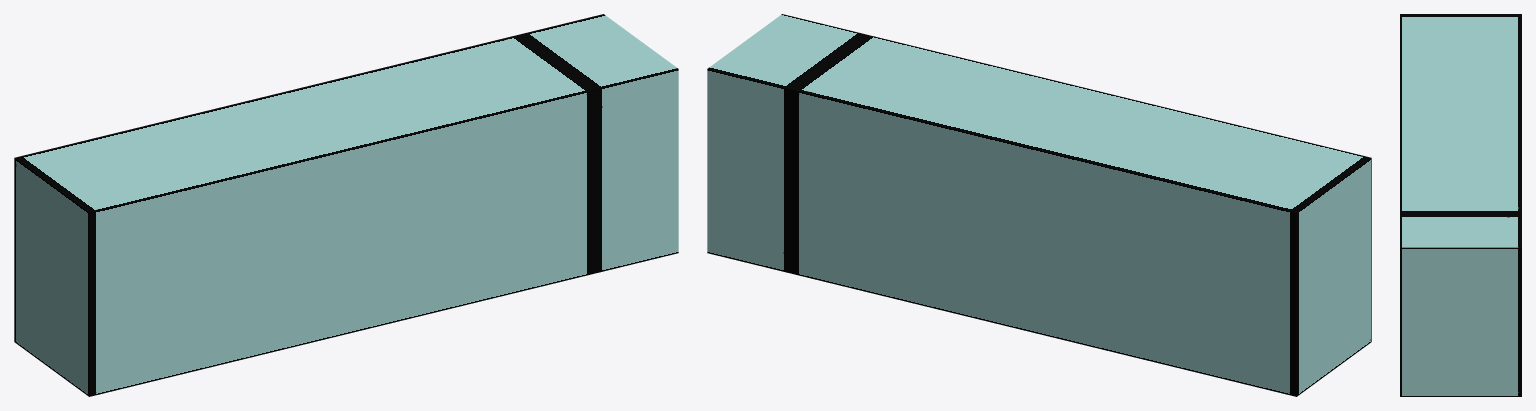
File: node_parallel.obj
3 renders of one model, left to right at view 1: azimuth 30°, elevation 25°; view 2: azimuth 150°, elevation 25°; view 3: azimuth 270°, elevation 25°, orthographic. The views are drawn at different scales.
Visible parts, largest first — view 1: Node_parallel; view 2: Node_parallel; view 3: Node_parallel.
Boxes of the visible parts, <box> form: Node_parallel: <box>14,14,678,396</box>; Node_parallel: <box>707,14,1371,396</box>; Node_parallel: <box>1400,14,1521,396</box>.
Size of the model in its own units: 1.17 by 0.3489 by 0.258.
